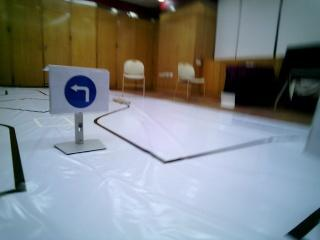left: (52, 64, 112, 111)
